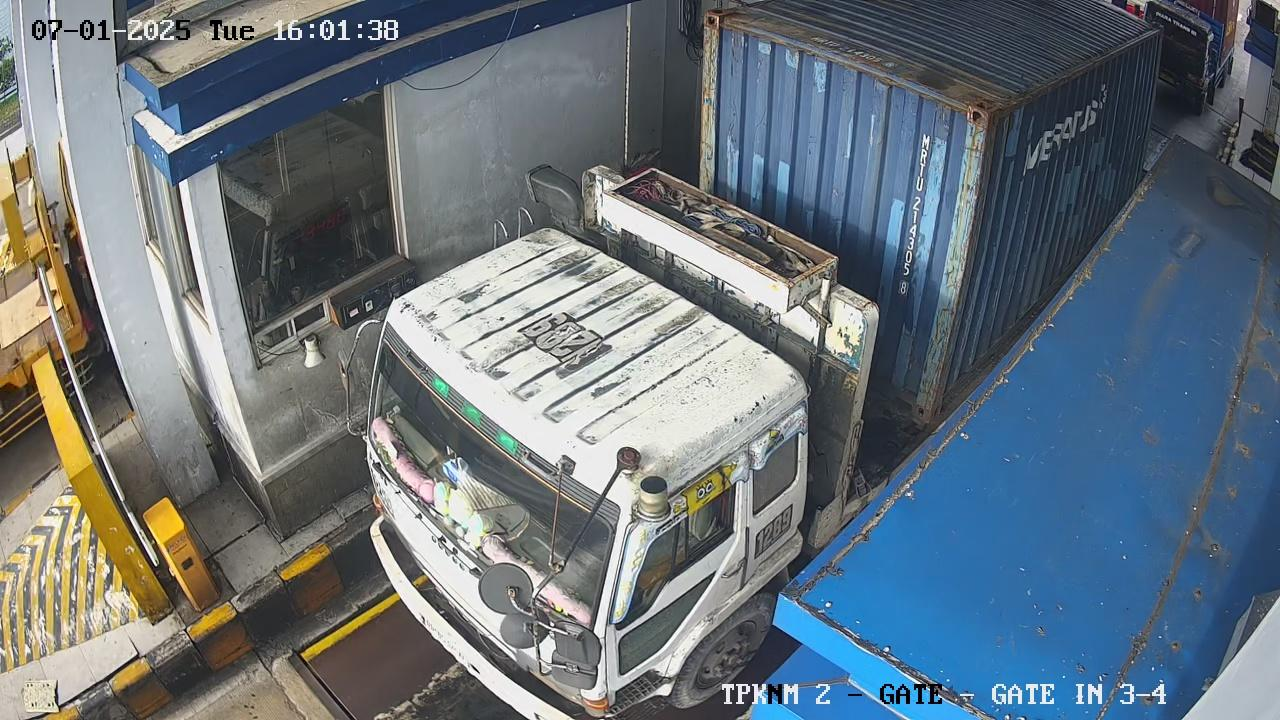Container_ID_Vertikal: (891, 132, 935, 303)
